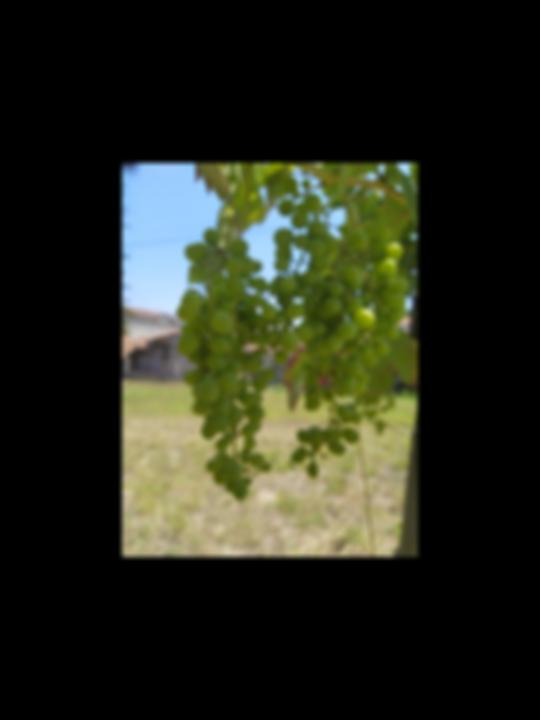grape: (268, 177, 409, 482), (175, 226, 278, 501)
